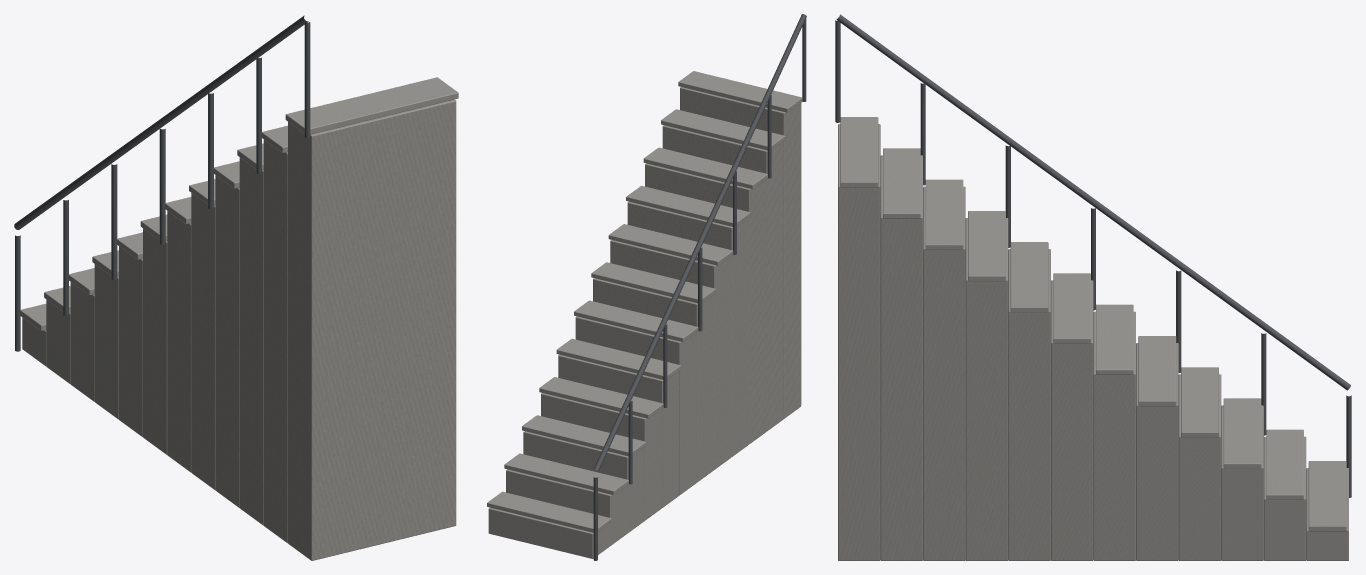
Rendered from tactical-shooter-hill-town-external-stair-run-322e7f01__27522.glb.
3 views of the same model, side by side, from view 1: azimuth 30°, elevation 25°; view 2: azimuth 150°, elevation 25°; view 3: azimuth 270°, elevation 25° (orthographic). The views are drawn at different scales.
Parts seen in each view (by area): view 1: external-stair-run; view 2: external-stair-run; view 3: external-stair-run.
Boxes of the visible parts, box(x1,y1,x2,y2) form: external-stair-run: box(14, 15, 458, 560); external-stair-run: box(487, 14, 806, 560); external-stair-run: box(835, 14, 1351, 560).
Size of the model in its own units: 1.35 by 4.5 by 4.36.
2 materials, 1 textured.
